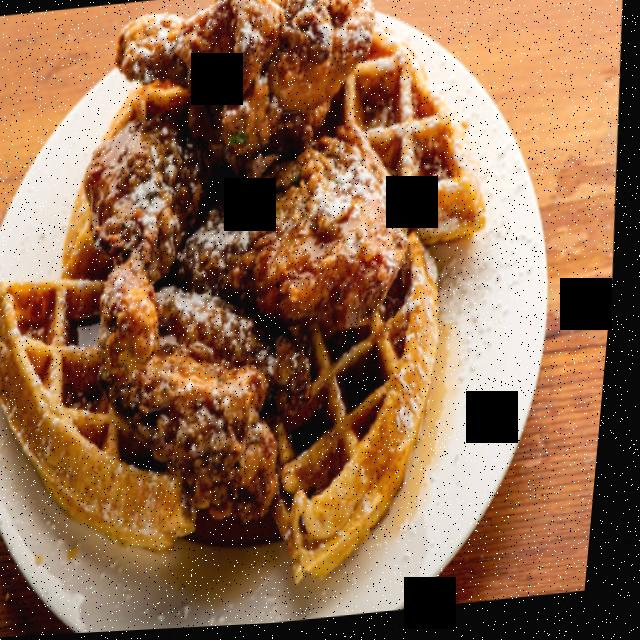Frango: (42, 0, 453, 558)
